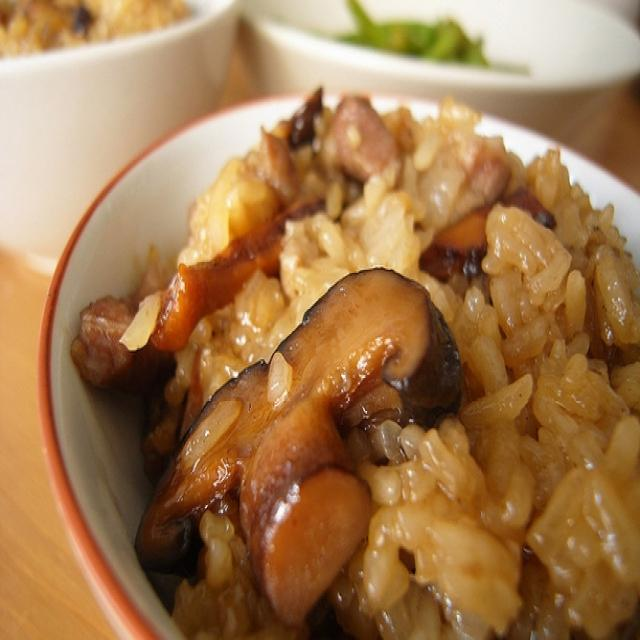米饭主食: (35, 69, 638, 637)
